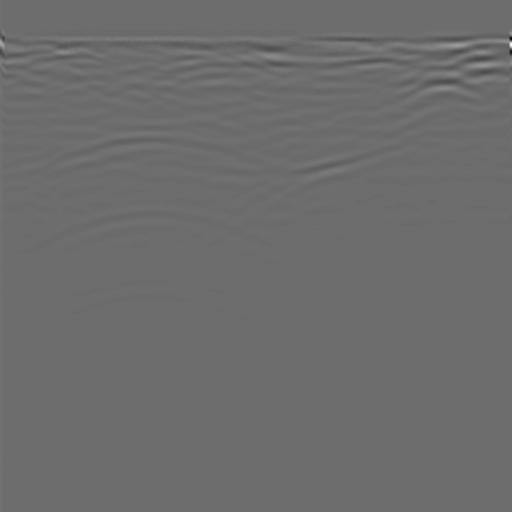hyperbola: (26, 117, 299, 250)
